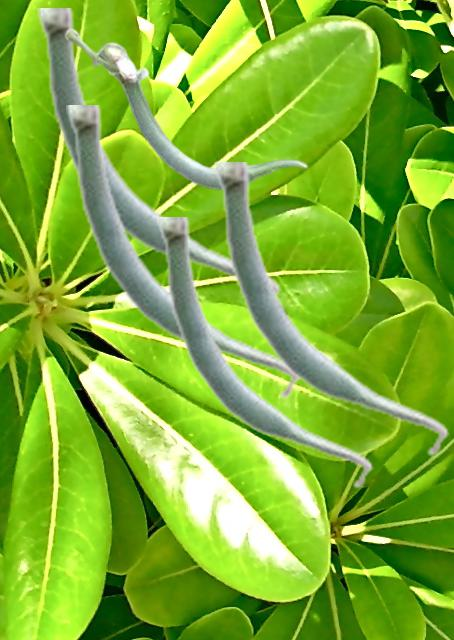french_bean: (37, 8, 280, 296), (214, 162, 448, 457), (66, 105, 299, 400), (157, 217, 372, 489), (64, 27, 307, 193)
